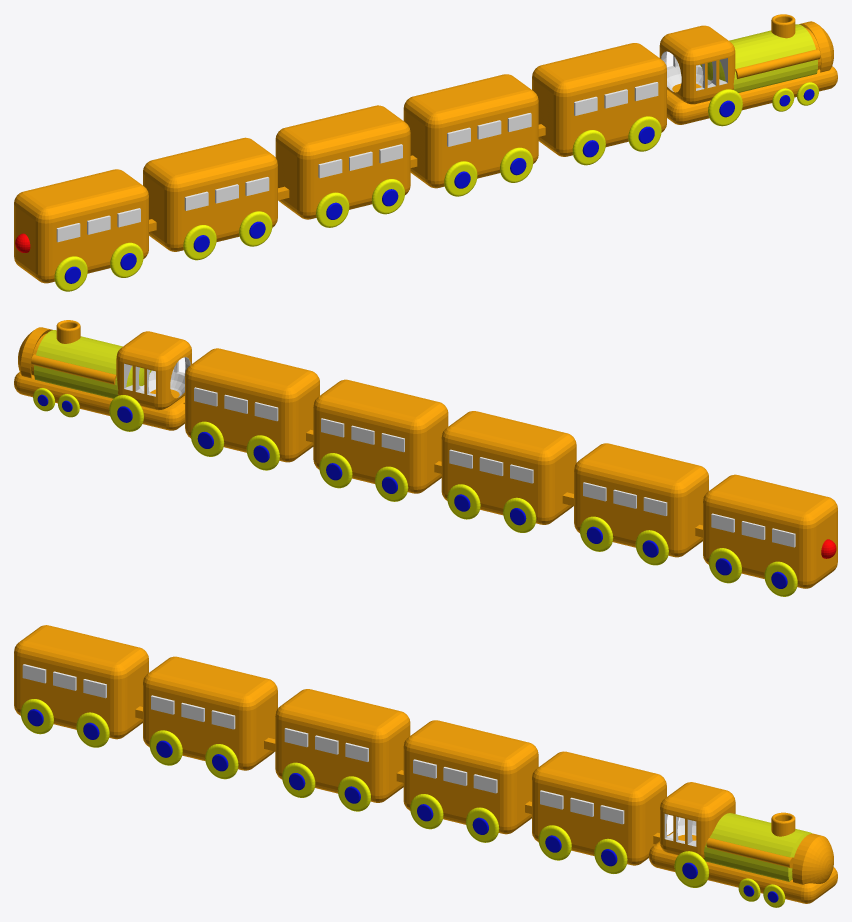
The model's file is toy-train.glb.
3 views of the same model, one above another, from view 1: azimuth 30°, elevation 25°; view 2: azimuth 150°, elevation 25°; view 3: azimuth 330°, elevation 25° (orthographic).
Parts seen in each view (by area): view 1: Cube_4, Cube_6, Cube_3, Cube_2, Cube_5, Oil_Tank_1, Cube_1_6, Cube_7, Cloner_1, Cloner_1_2, Cloner_2, Cloner (+16 smaller); view 2: Cube_4, Cube_6, Cube_3, Cube_5, Cube_2, Oil_Tank_1, Cube_1_6, Cube_7, Cloner_2, Cloner_1_2, Cloner_3, Cloner (+16 smaller); view 3: Cube_5, Cube_4, Cube_6, Cube_3, Cube_2, Oil_Tank_1, Cube_1_6, Cube_7, Oil_Tank, Cloner_1, Cloner, Cloner_1_2 (+15 smaller).
Part boxes in pixels (x1,y1,x2,y2): Cube_4: [275, 105, 410, 219]; Cube_6: [14, 169, 148, 283]; Cube_3: [403, 74, 538, 188]; Cube_2: [532, 43, 666, 156]; Cube_5: [143, 137, 277, 251]; Oil_Tank_1: [700, 24, 817, 92]; Cube_1_6: [659, 25, 735, 104]; Cube_7: [667, 66, 837, 124]; Cloner_1: [447, 113, 531, 146]; Cloner_1_2: [184, 177, 269, 210]; Cloner_2: [318, 144, 402, 178]; Cloner: [574, 82, 658, 115]; Cube_4: [441, 411, 576, 524]; Cube_6: [703, 474, 837, 588]; Cube_3: [313, 379, 448, 493]; Cube_5: [574, 443, 708, 557]; Cube_2: [185, 348, 319, 462]; Oil_Tank_1: [34, 330, 151, 398]; Cube_1_6: [116, 331, 191, 410]; Cube_7: [14, 372, 184, 430]; Cloner_2: [449, 449, 533, 483]; Cloner_1_2: [583, 482, 667, 515]; Cloner_3: [711, 513, 795, 547]; Cloner: [194, 387, 278, 421]; Cube_5: [143, 656, 277, 770]; Cube_4: [275, 689, 410, 802]; Cube_6: [14, 625, 148, 739]; Cube_3: [403, 720, 538, 834]; Cube_2: [532, 751, 666, 865]; Oil_Tank_1: [704, 813, 812, 881]; Cube_1_6: [660, 782, 735, 858]; Cube_7: [649, 831, 837, 903]; Oil_Tank: [792, 833, 833, 884]; Cloner_1: [413, 759, 497, 793]; Cloner: [540, 790, 624, 824]; Cloner_1_2: [151, 695, 235, 729].
Size of the model in its own units: 50.7 by 5.01 by 4.15.
